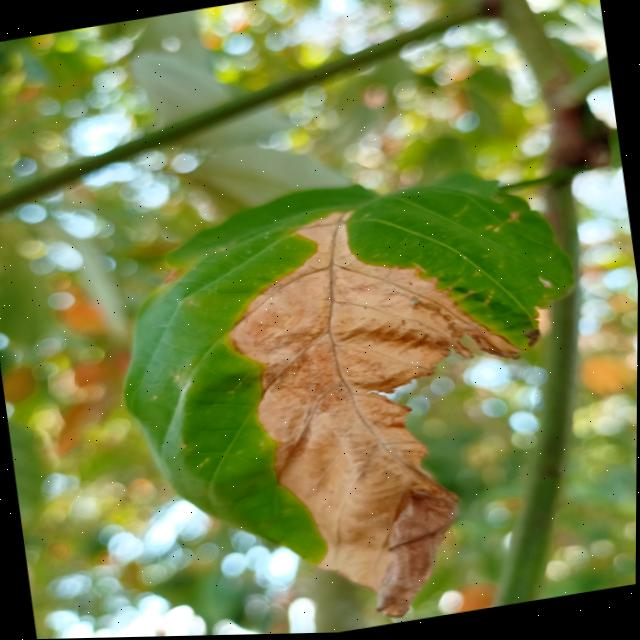Leaf-Blight: (215, 186, 557, 636)
